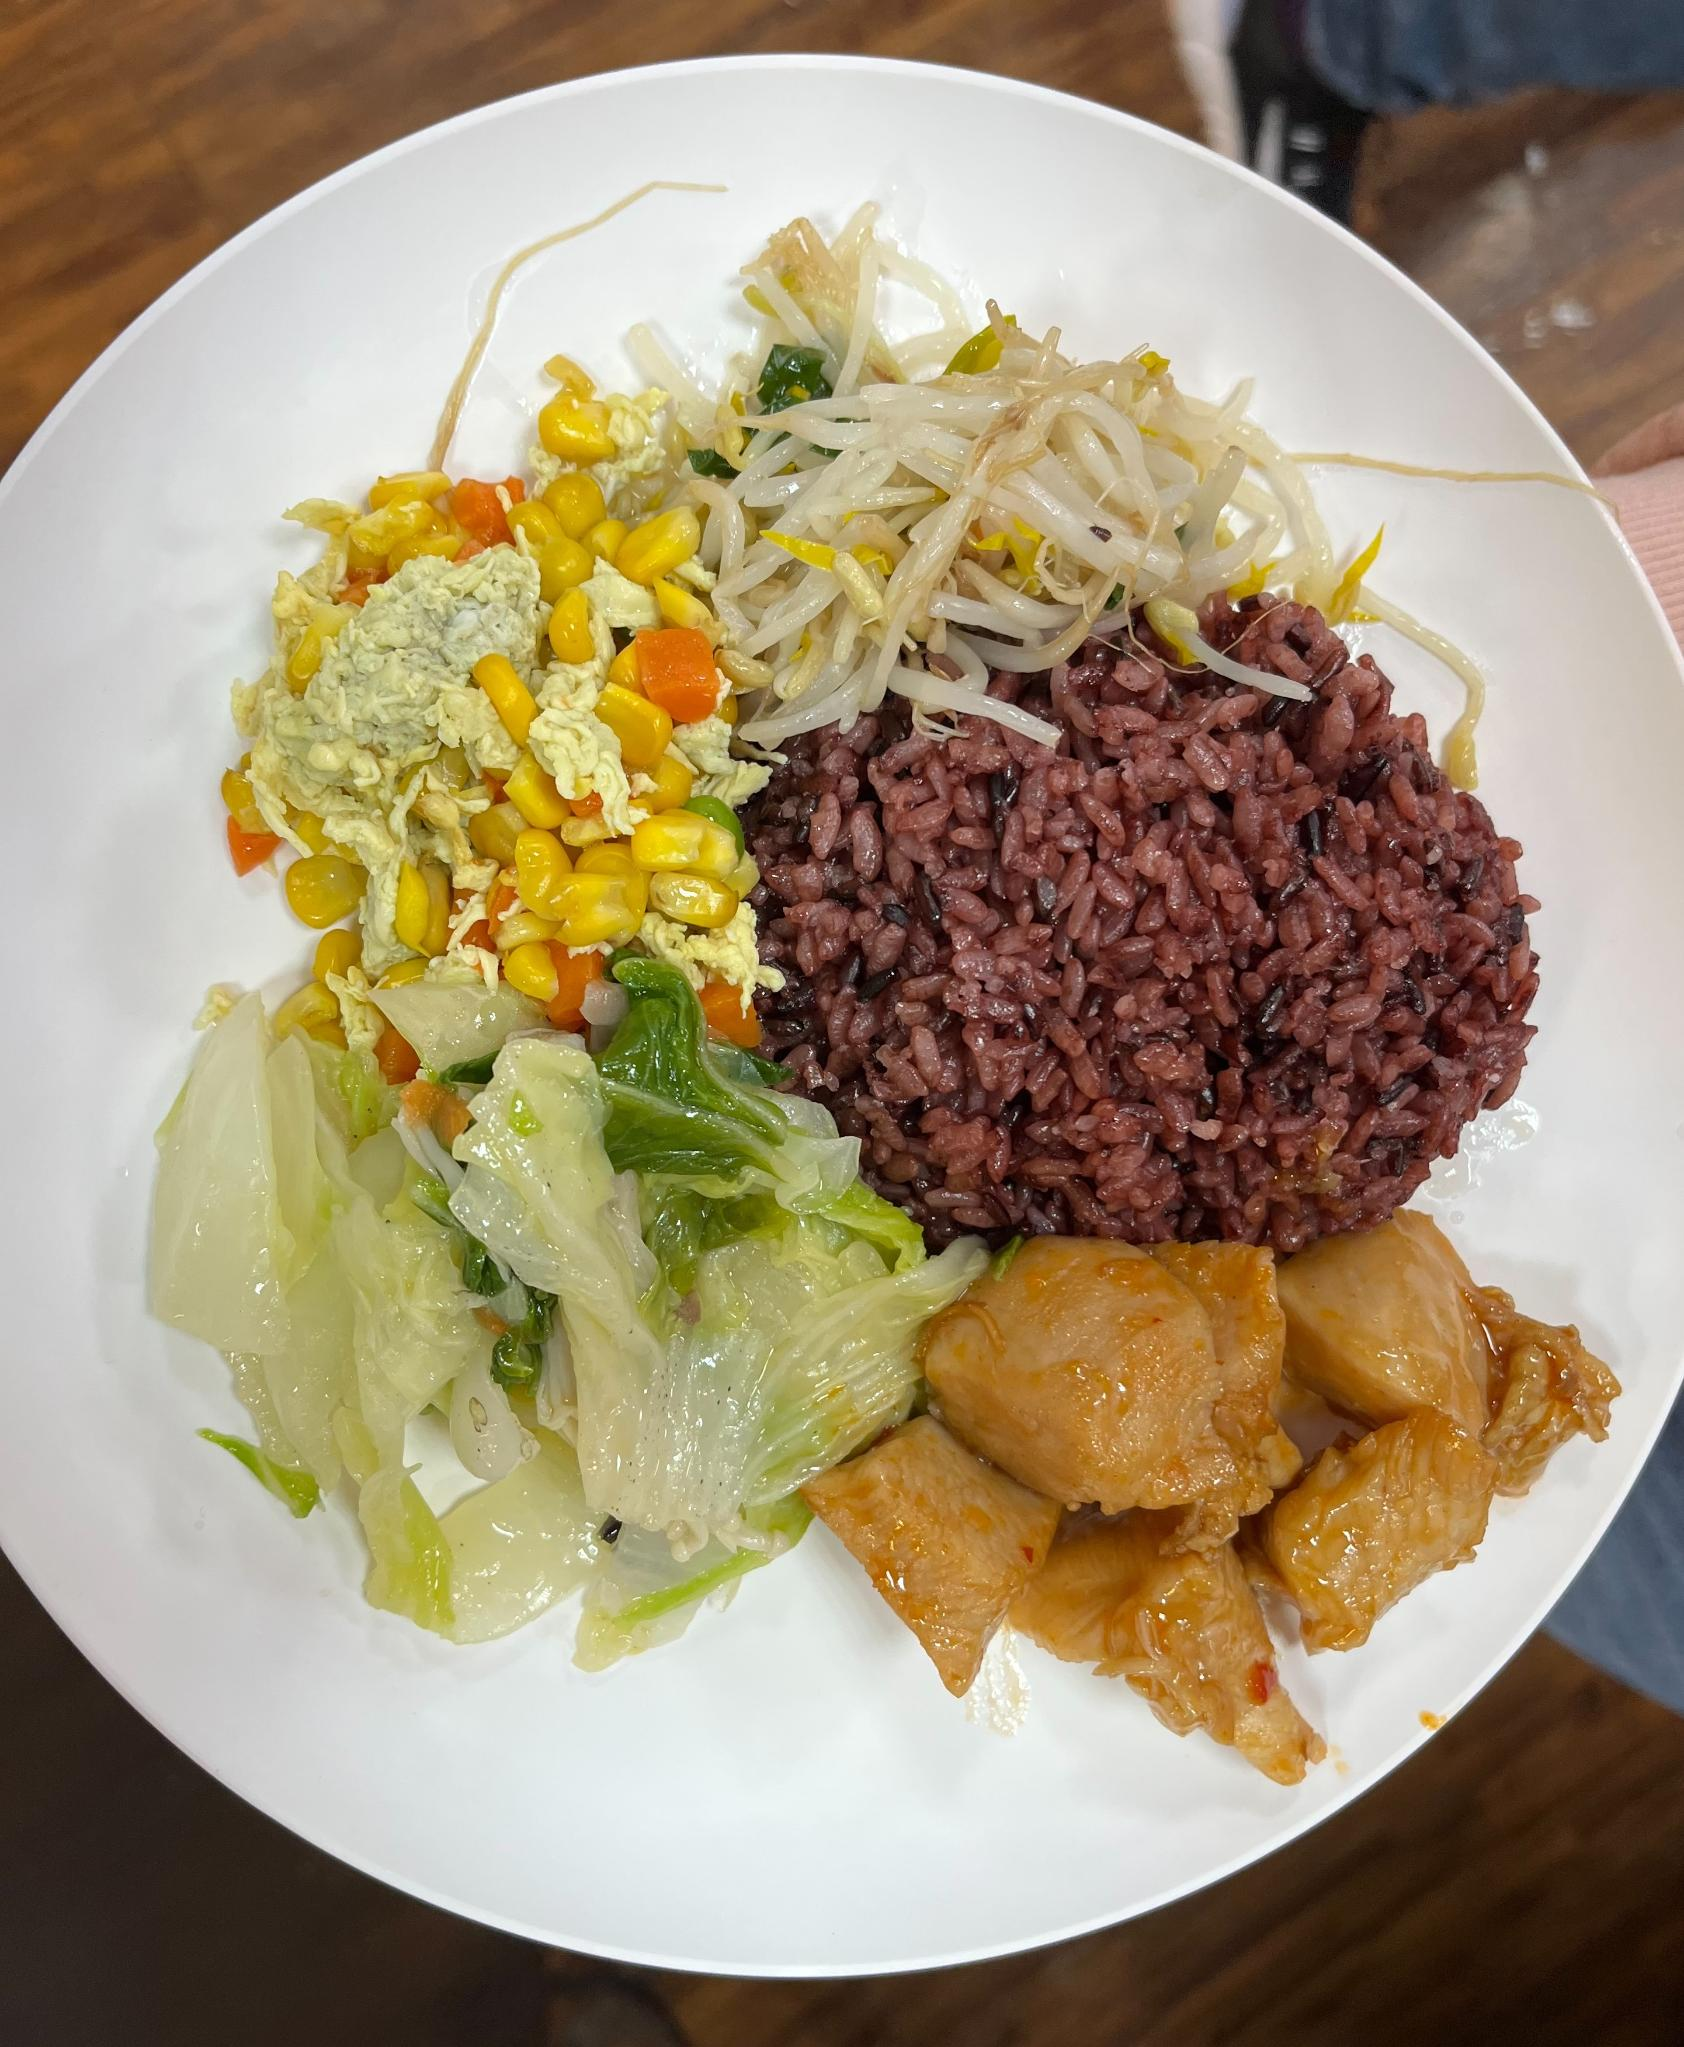big fried chicken leg: (0, 36, 1684, 1999)
braised fish: (762, 626, 1514, 1248)
braised fish fillet: (124, 959, 934, 1644), (206, 445, 774, 1047), (670, 272, 1327, 724)
braised pork: (816, 1204, 1607, 1794)
